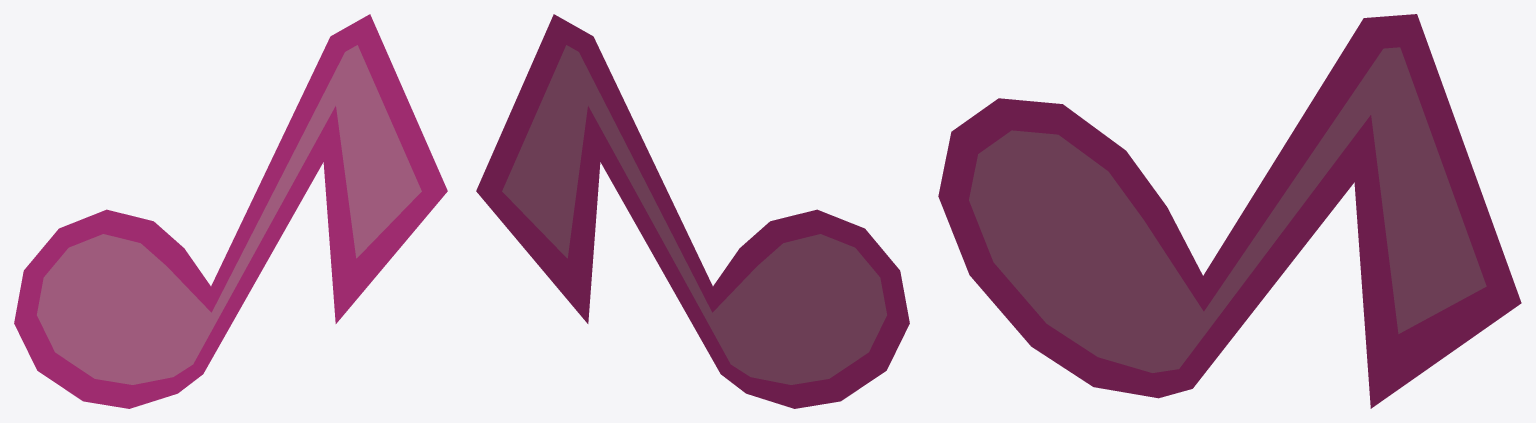
Rendered from MusicNoteFront_0.glb.
The picture shows the model from 3 angles, left to right: view 1: azimuth 30°, elevation 25°; view 2: azimuth 150°, elevation 25°; view 3: azimuth 330°, elevation 25°; orthographic projection. The views are drawn at different scales.
Parts seen in each view (by area): view 1: MusicNoteFront; view 2: MusicNoteFront; view 3: MusicNoteFront.
Part boxes in pixels (x1=…): MusicNoteFront: x1=14, y1=14, x2=447, y2=408; MusicNoteFront: x1=476, y1=14, x2=909, y2=408; MusicNoteFront: x1=938, y1=14, x2=1521, y2=408.
Size of the model in its own units: 1.1 by 0.8112 by 0.
